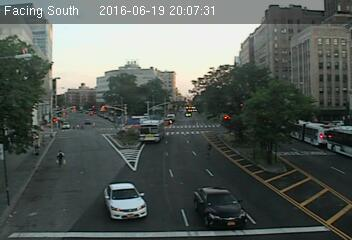neg: (123, 180, 151, 217), (206, 41, 232, 76), (89, 169, 115, 204), (203, 185, 229, 220), (84, 29, 110, 63), (20, 186, 44, 217), (292, 110, 315, 141), (178, 194, 200, 223), (33, 70, 54, 98), (263, 156, 284, 184), (305, 177, 326, 205), (127, 122, 147, 149), (316, 59, 335, 85), (21, 112, 40, 137), (256, 46, 275, 71), (265, 117, 283, 142), (274, 206, 291, 230), (234, 89, 251, 112), (136, 37, 153, 59), (72, 83, 88, 105), (168, 83, 184, 103), (116, 95, 128, 111)
pos: (52, 147, 68, 169), (201, 141, 215, 159)
